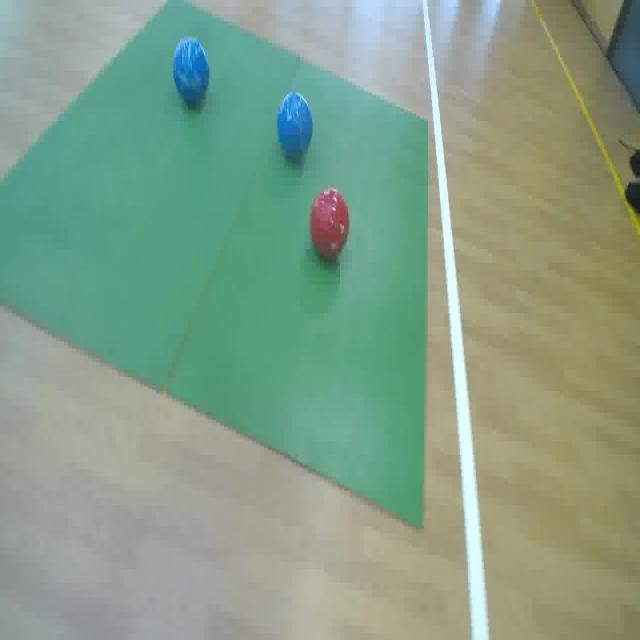blue_ball: (275, 90, 314, 166), (173, 34, 212, 107)
red_ball: (307, 187, 350, 266)
